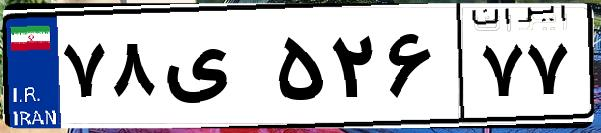2: (330, 28, 385, 110)
5: (270, 28, 330, 110)
6: (385, 28, 445, 110)
7: (57, 26, 110, 100), (475, 38, 525, 113), (525, 38, 570, 115)
8: (110, 28, 158, 98)
ی: (158, 20, 270, 120)
